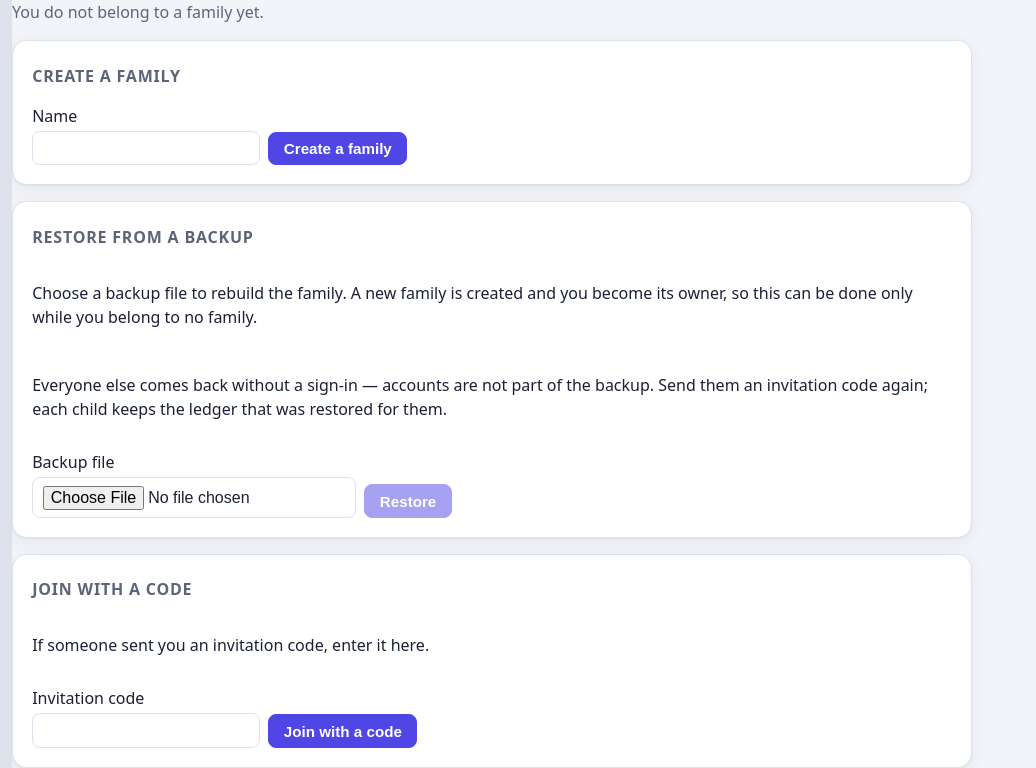
Test: FamiliesPage › 招待コードで参加できる
This screenshot has width=1036, height=768.
(page scrolled)
Type "CODE1234" into the field labelled "Invitation code" at (146, 730), box top-left (32, 713), bottom-right (260, 748)
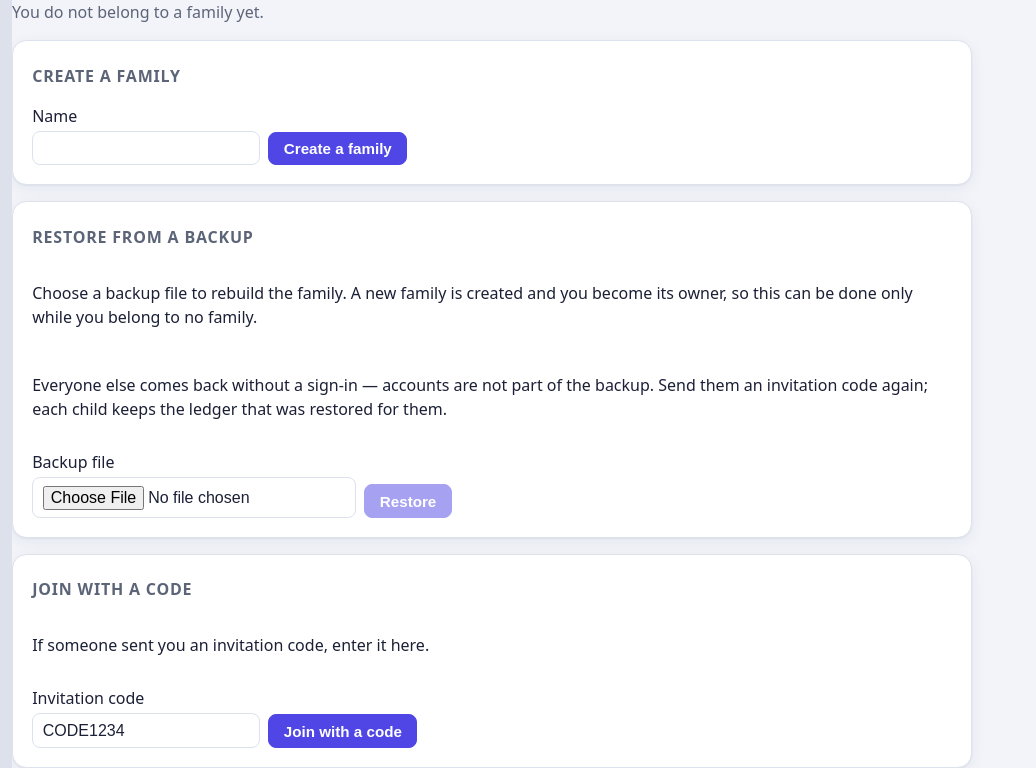
Click the button "Join with a code" at (343, 731), box top-left (268, 714), bottom-right (417, 748)
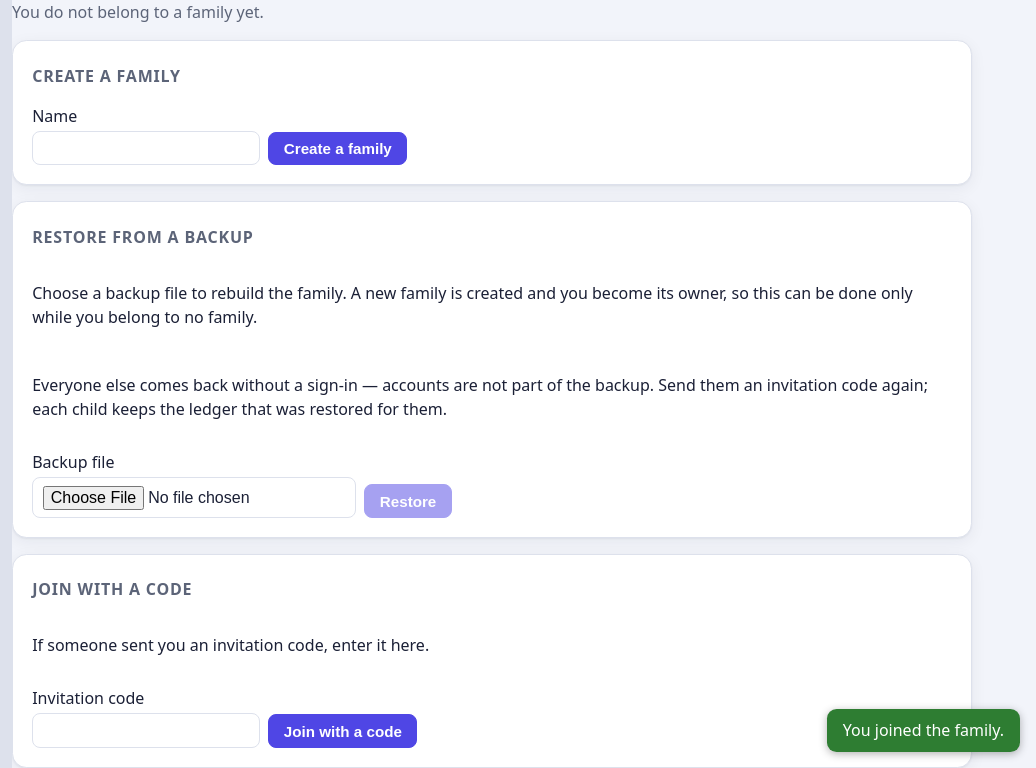
Expected: the text "You joined the family." is shown, top-left (827, 709), bottom-right (1020, 752)
